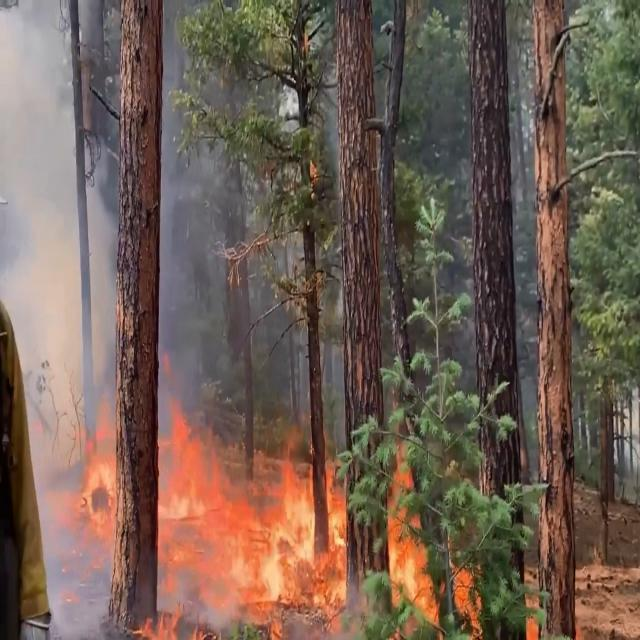Fire: (80, 354, 478, 638)
